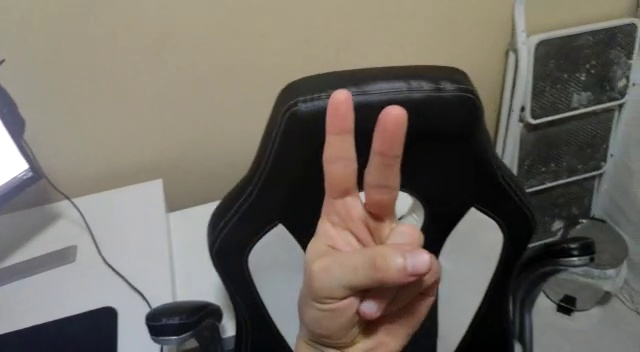Peace: (290, 84, 437, 350)
